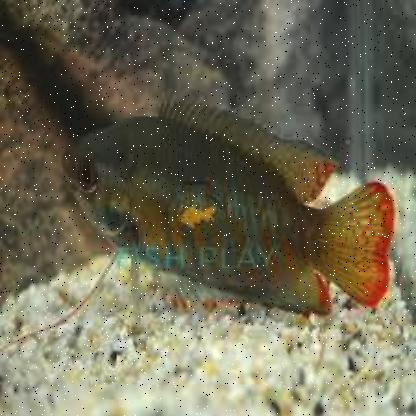gurame: (60, 110, 384, 315)
